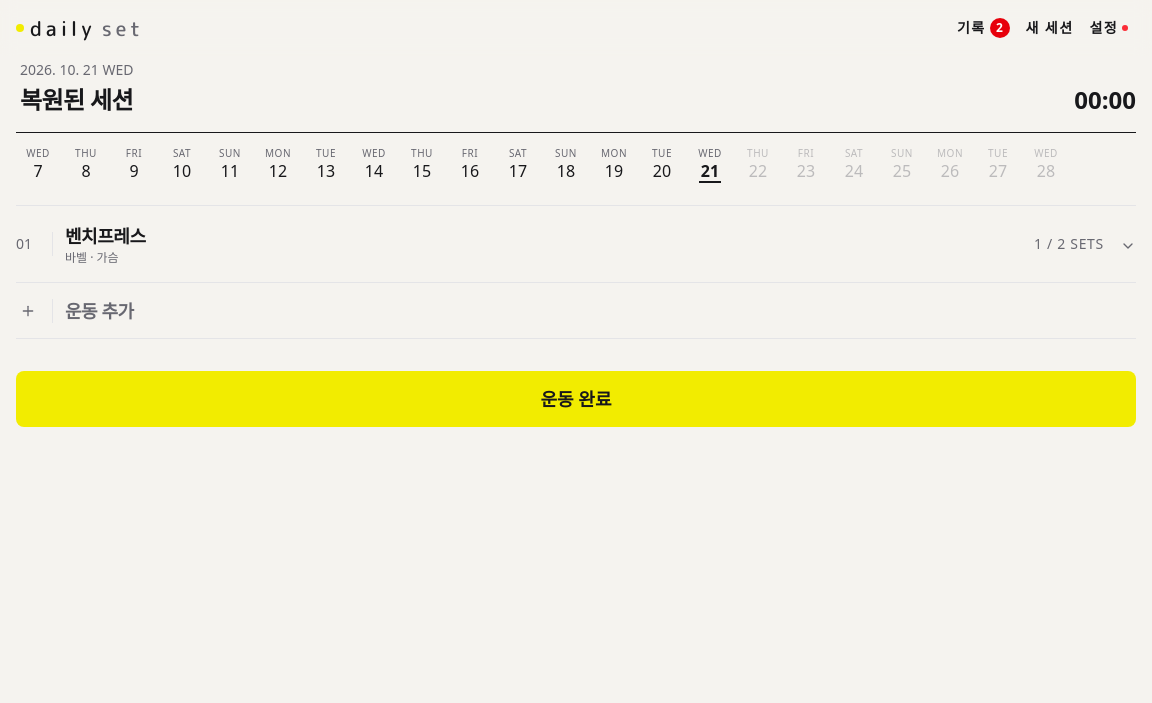
it: RootClient — 기록(History) › 세션 삭제를 누르면 목록과 저장소에서 사라지고 Notion 재전송 대상에서도 빠진다
Expected: the button "운동 완료" is shown, 16,371 -> 1136,427
Click the button "기록 2".
click(983, 28)  # box 949,6 -> 1018,50
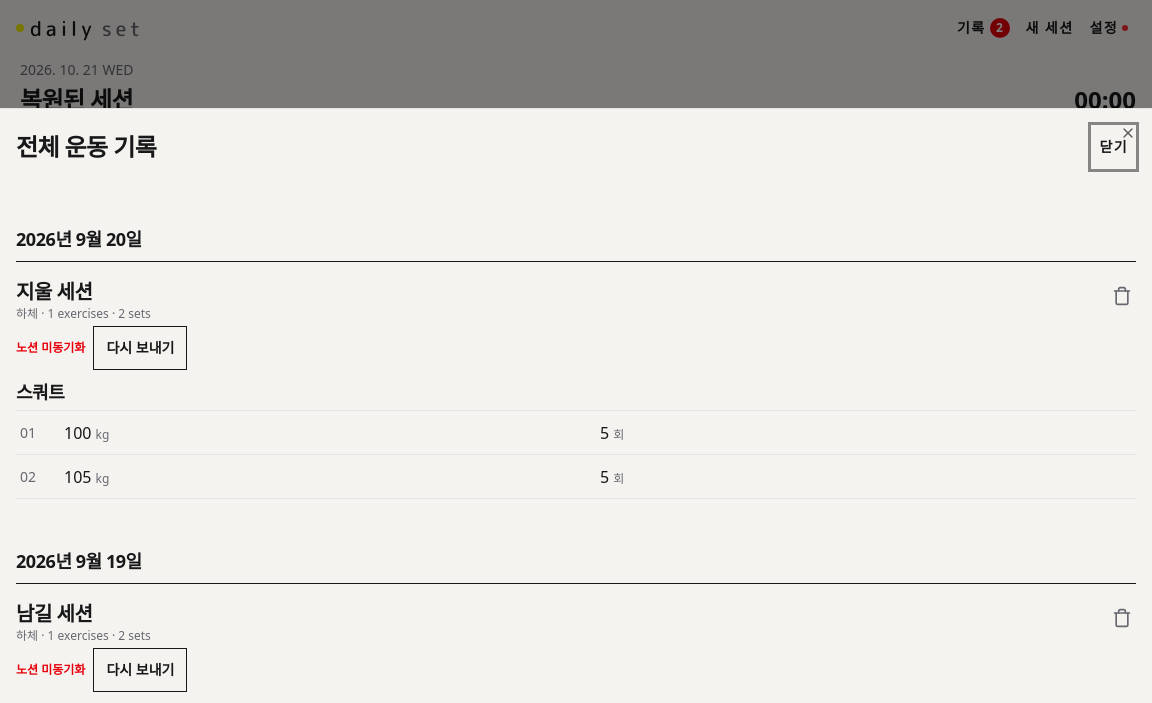
Expected: the text "노션 미동기화" is shown 2 times, 16,340 -> 85,356; 16,662 -> 85,678
Click the button titled "세션 삭제" in the row of "지울 세션".
click(1122, 296)  # box 1100,274 -> 1144,318
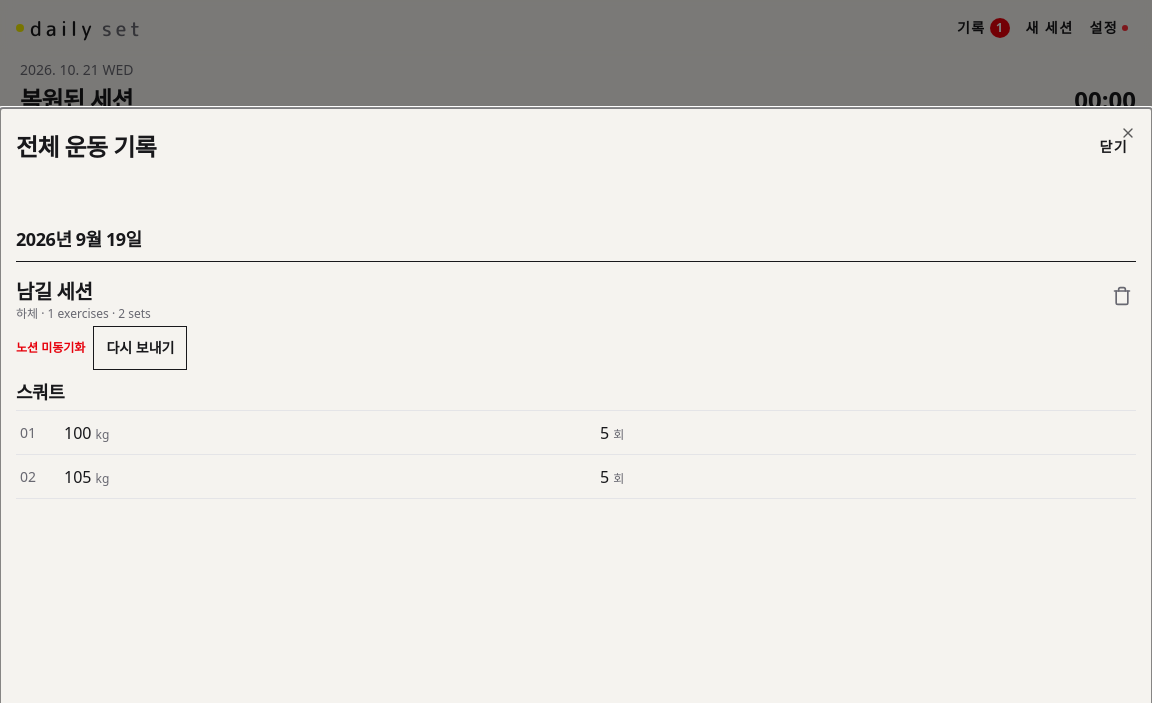
Expected: the text "노션 미동기화" is shown once, 16,340 -> 85,356
Expected: the heading "남길 세션" is shown, 16,278 -> 92,305
Expected: the heading "지울 세션" is gone
